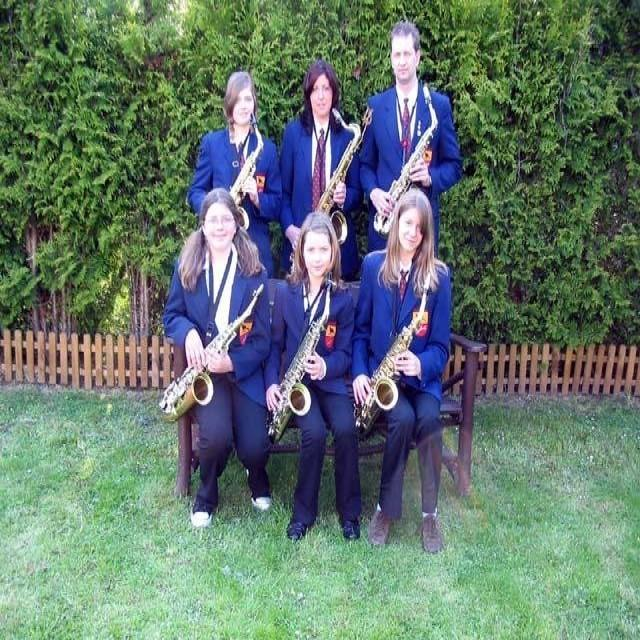saxophone: (154, 280, 268, 422), (353, 269, 436, 437), (265, 281, 336, 442), (316, 107, 375, 244), (226, 114, 266, 228)
